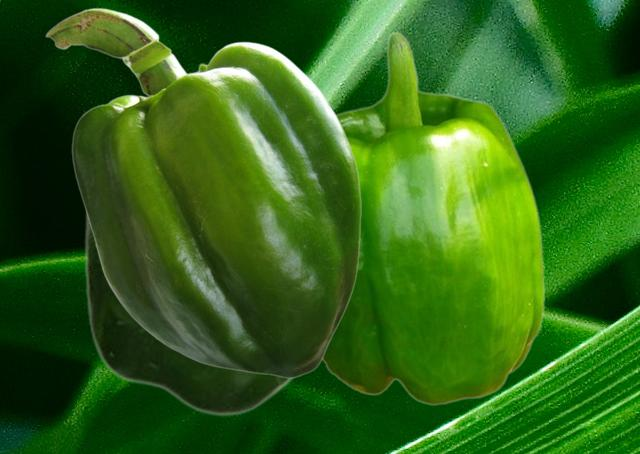bell_pepper: (45, 7, 360, 377), (322, 31, 544, 405), (83, 207, 295, 416)
